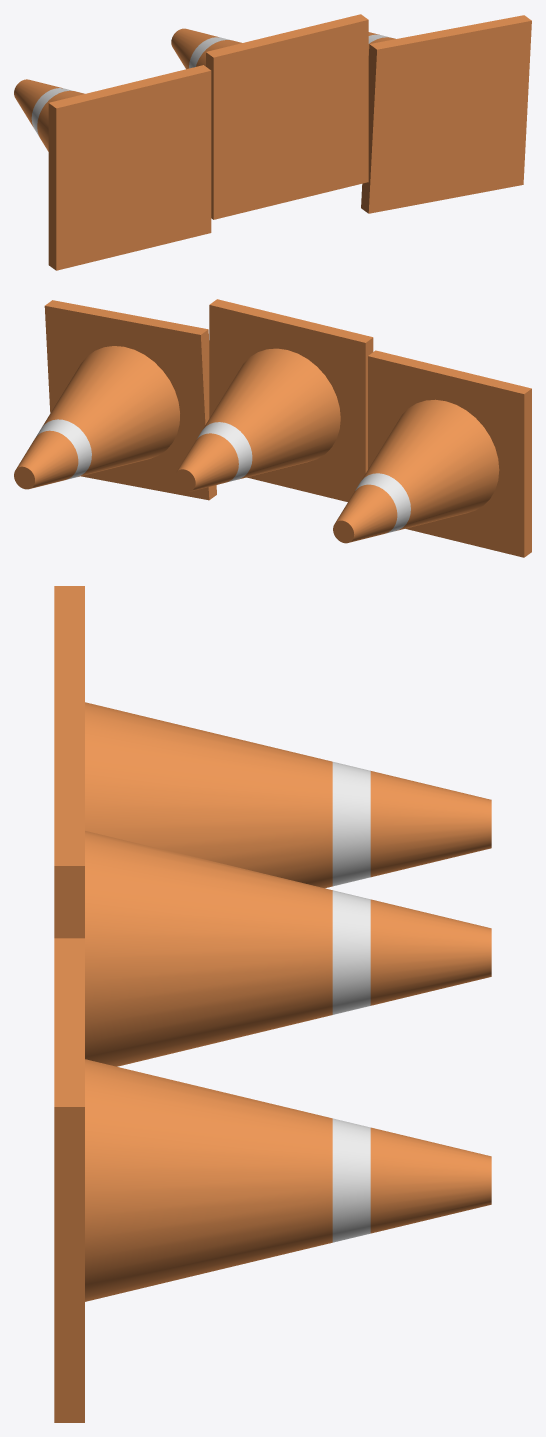
Rendered from cones3.fbx.
The picture shows the model from 3 angles, top to bottom: view 1: azimuth 30°, elevation 25°; view 2: azimuth 150°, elevation 25°; view 3: azimuth 270°, elevation 25°; orthographic projection. The views are drawn at different scales.
Visible parts, largest first — view 1: Cone.001; view 2: Cone.001; view 3: Cone.001.
Boxes of the visible parts, left/top/right/bottom form: Cone.001: left=14, top=14, right=531, bottom=270; Cone.001: left=14, top=299, right=531, bottom=557; Cone.001: left=54, top=586, right=491, bottom=1422.
Size of the model in its own units: 225 by 91.88 by 89.77.
